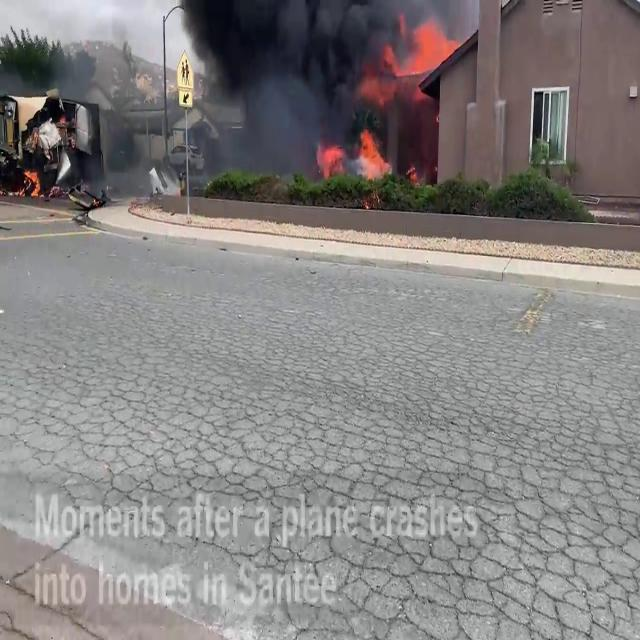Fire: (399, 13, 458, 75)
Smoke: (81, 1, 437, 188)
